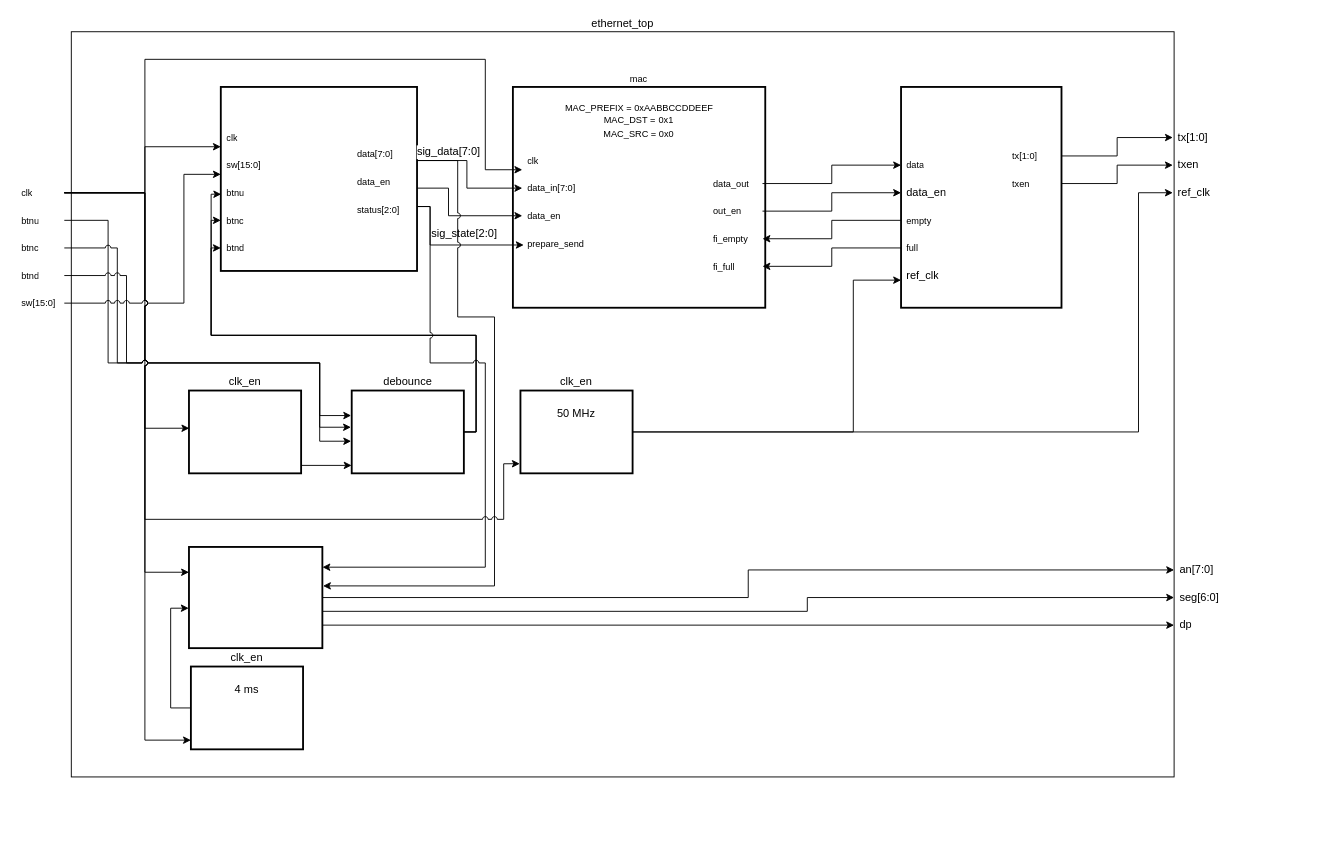
Some shapes in this 1338 by 866 pixel diagram are drawn without their labels. The box of each missing label's shape, as (x1, y1, x2, y2) in pixels:
display_driver: (188, 546, 323, 649)
fifo: (900, 86, 1062, 308)
state_controller: (219, 86, 417, 271)
